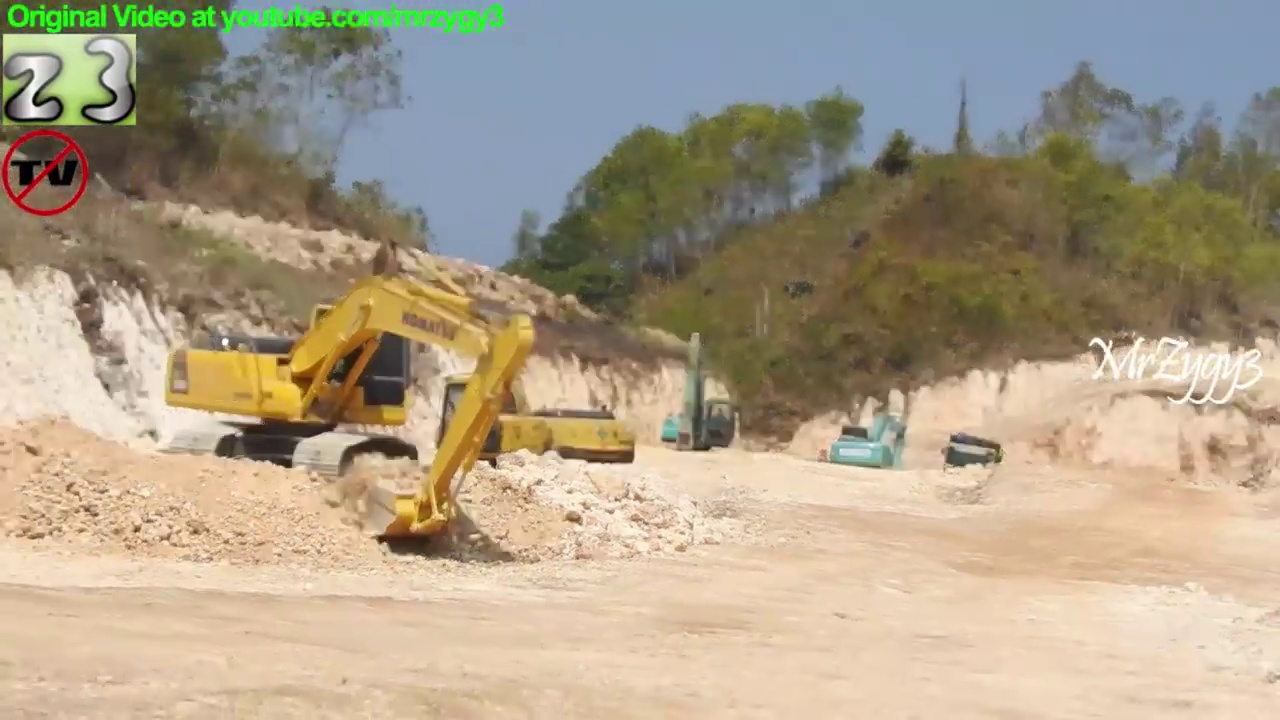excavator: (157, 279, 540, 548), (324, 236, 640, 489), (657, 328, 744, 467), (824, 407, 915, 492)
truck: (937, 428, 1007, 495)
